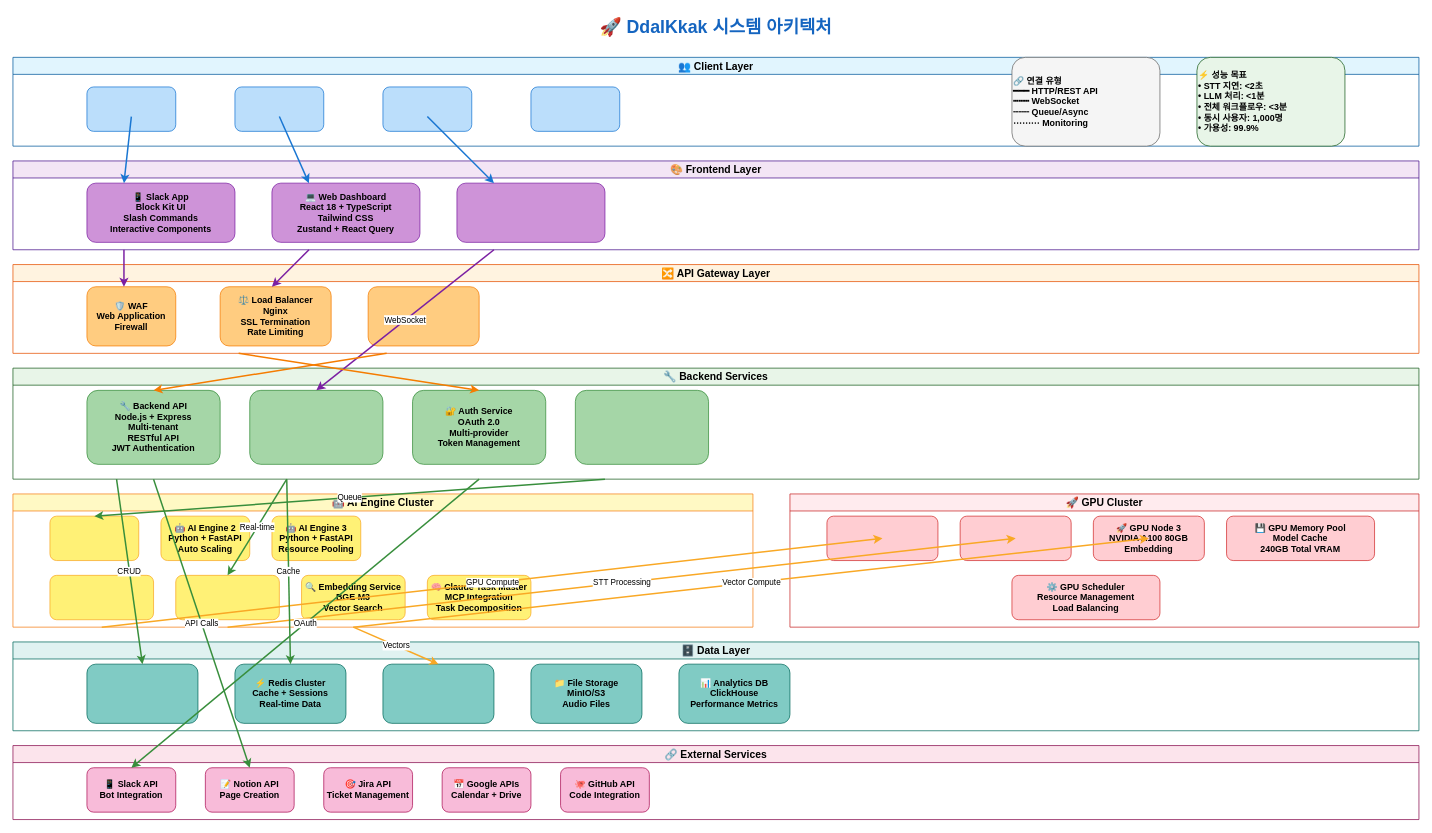
This 1432x833 diagram has some shape labels left out. The shapes that lost their labels are listed below. From the top down, each one's centre as x and y in pixels, then its label:
pixel 131 108: 👤 Slack Users 팀원들
pixel 279 108: 💻 Web Dashboard 관리자
pixel 427 108: 🌐 Chrome Extension 회의 참가자
pixel 575 108: 📱 Mobile App 모바일 사용자
pixel 530 212: 🌐 Chrome Extension Audio Capture Real-time Streaming Meeting Detection
pixel 423 316: 🔀 API Gateway Authentication Authorization Request Routing
pixel 316 427: 📡 WebSocket Server Socket.io Real-time STT Live Collaboration
pixel 642 427: 📋 Queue Manager Bull + Redis Job Processing Task Scheduling
pixel 94 538: 🤖 AI Engine 1 Python + FastAPI Load Balancing
pixel 882 538: 🚀 GPU Node 1 NVIDIA A100 80GB LLM Inference
pixel 1015 538: 🚀 GPU Node 2 NVIDIA A100 80GB STT Processing
pixel 101 597: 🧠 LLM Service Qwen3-14B Task Analysis
pixel 227 597: 🎤 STT Service Whisper Large-v3 Real-time Processing
pixel 142 693: 🗄️ PostgreSQL Primary Database Multi-tenant
pixel 438 693: 🔍 Vector Database ChromaDB + FAISS Embeddings Storage
